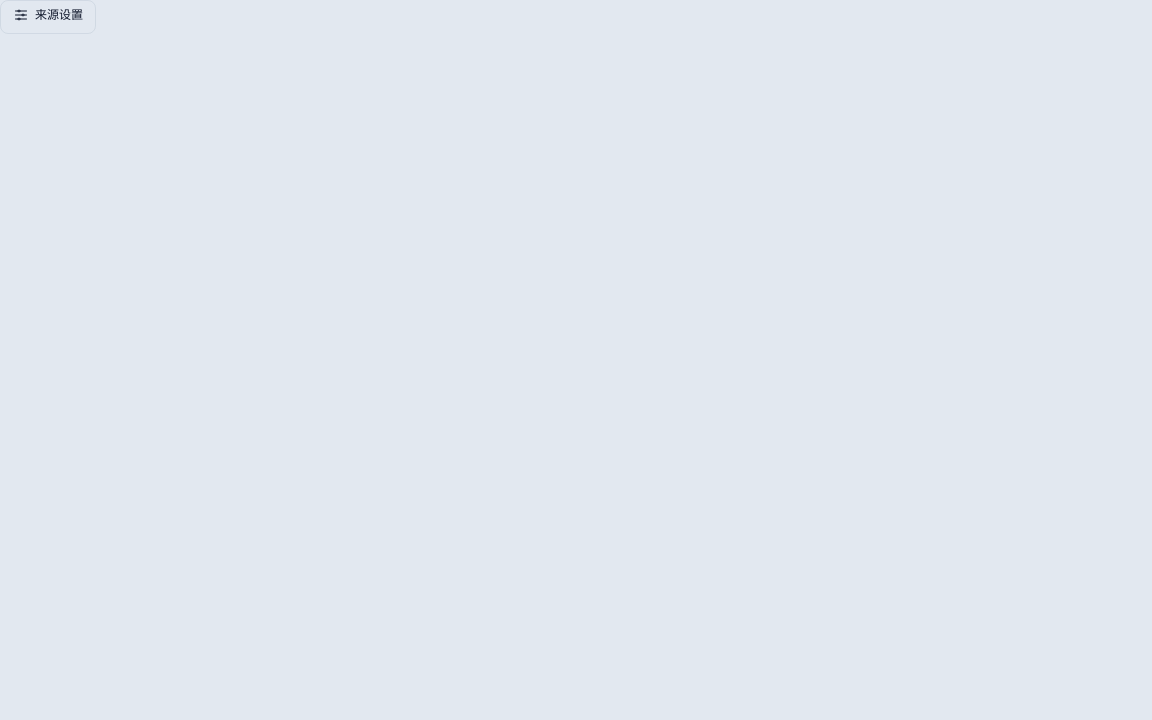
Scenario: saves the selected mirror for both catalogs and keeps the community account and offline selection
This screenshot has width=1152, height=720.
Step 1. Click the button "来源设置" → (48, 17), box [0,0,96,34]
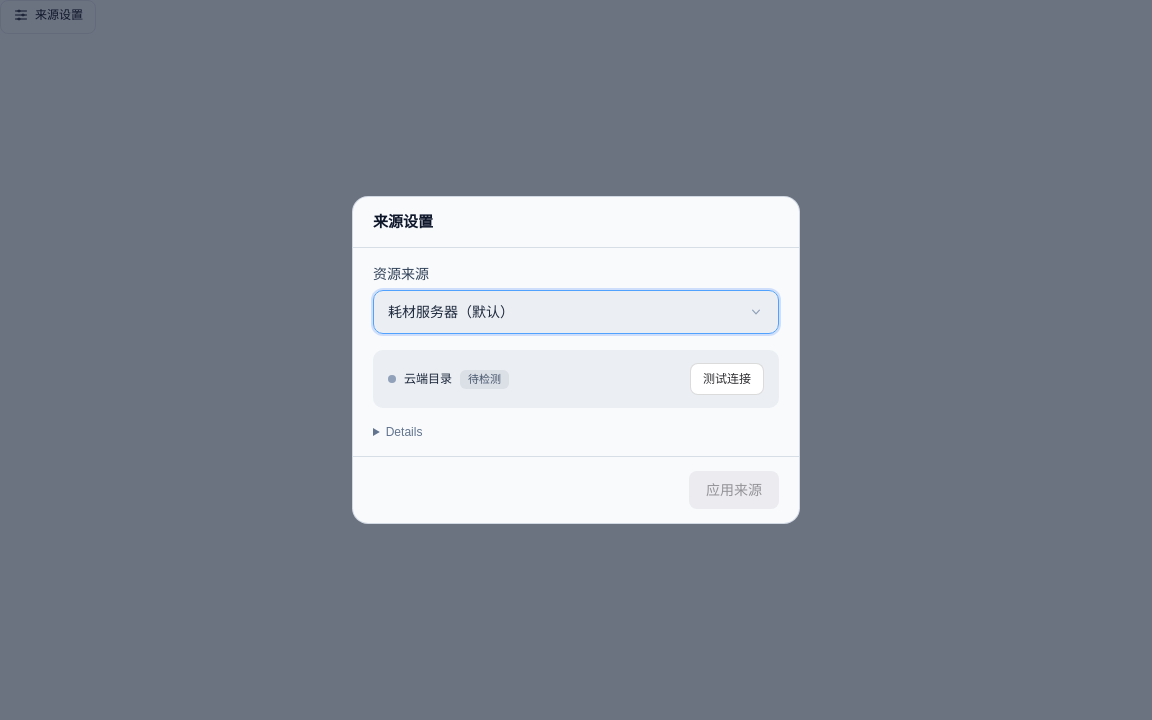
Now the dialog is shown, box [352,196,800,524]
Step 2. Click the dropdown named "资源来源" → (451, 312), box [373,290,779,334]
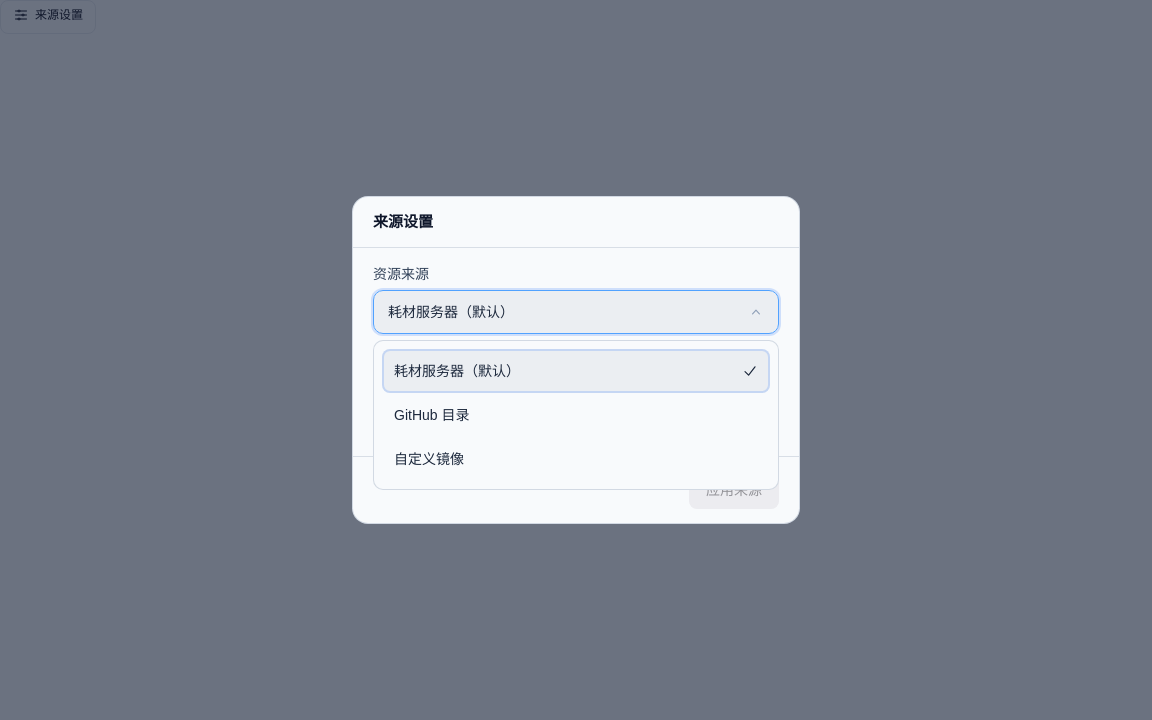
Step 3. Click the option "自定义镜像" → (429, 459), box [382,437,770,481]
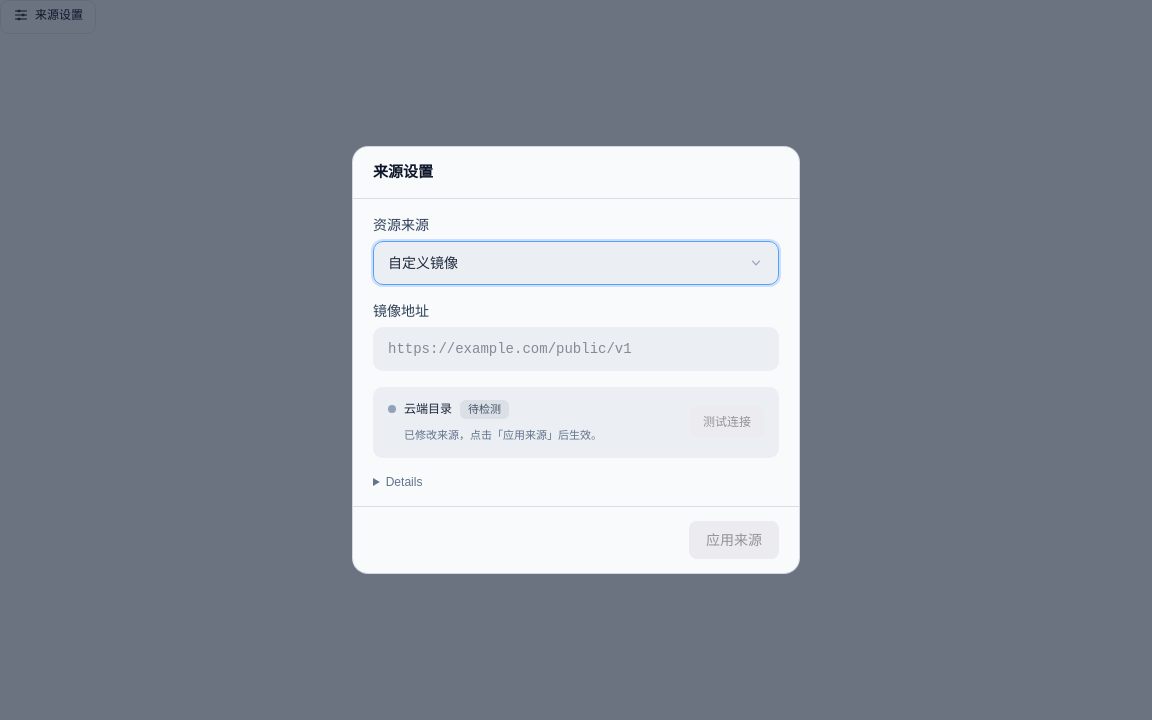
Step 4. Type "https://mirror.test/public/v1/" into the field labelled "镜像地址" → (576, 349), box [373,327,779,371]
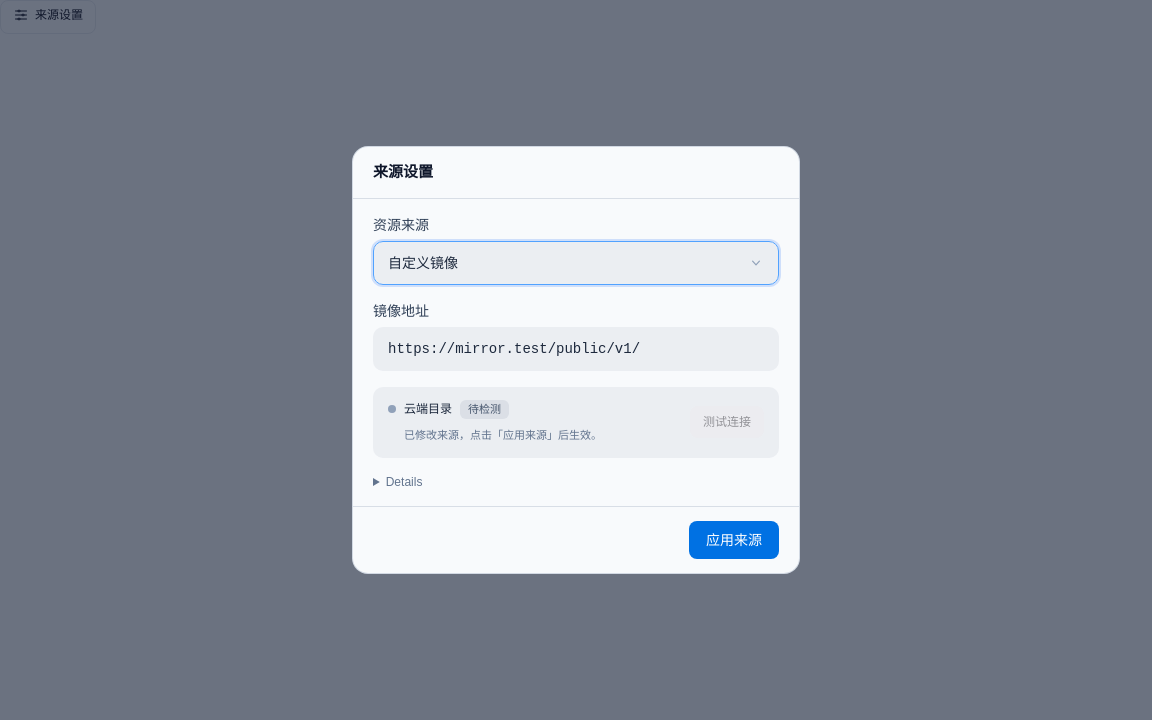
Step 5. Click the button "应用来源" → (734, 540), box [689,521,779,559]
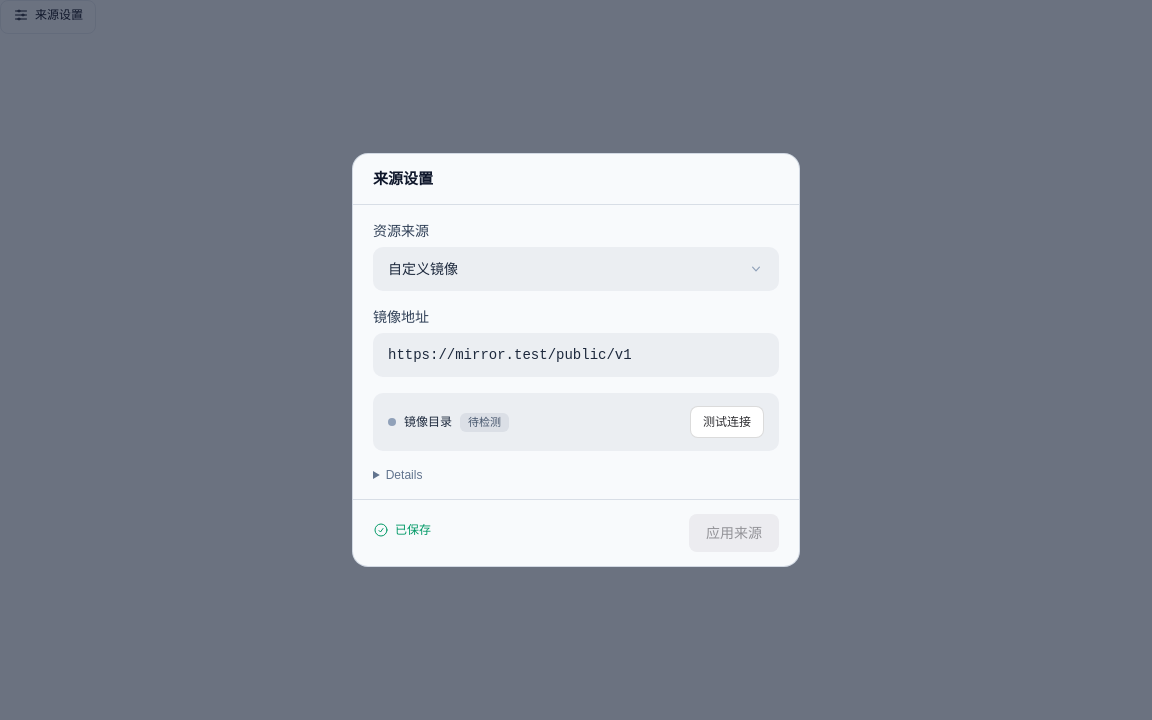
Now the text "已保存" is shown, box [373,522,431,538]
Now the button "应用来源" is disabled, box [689,514,779,552]
